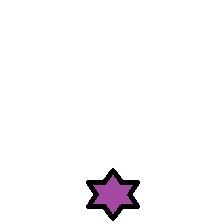star: (86, 166, 140, 221)
